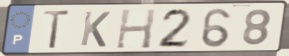2: (156, 8, 195, 49)
6: (199, 7, 232, 49)
8: (241, 8, 273, 47)
H: (113, 8, 158, 51)
K: (78, 10, 113, 49)
T: (41, 9, 73, 51)
